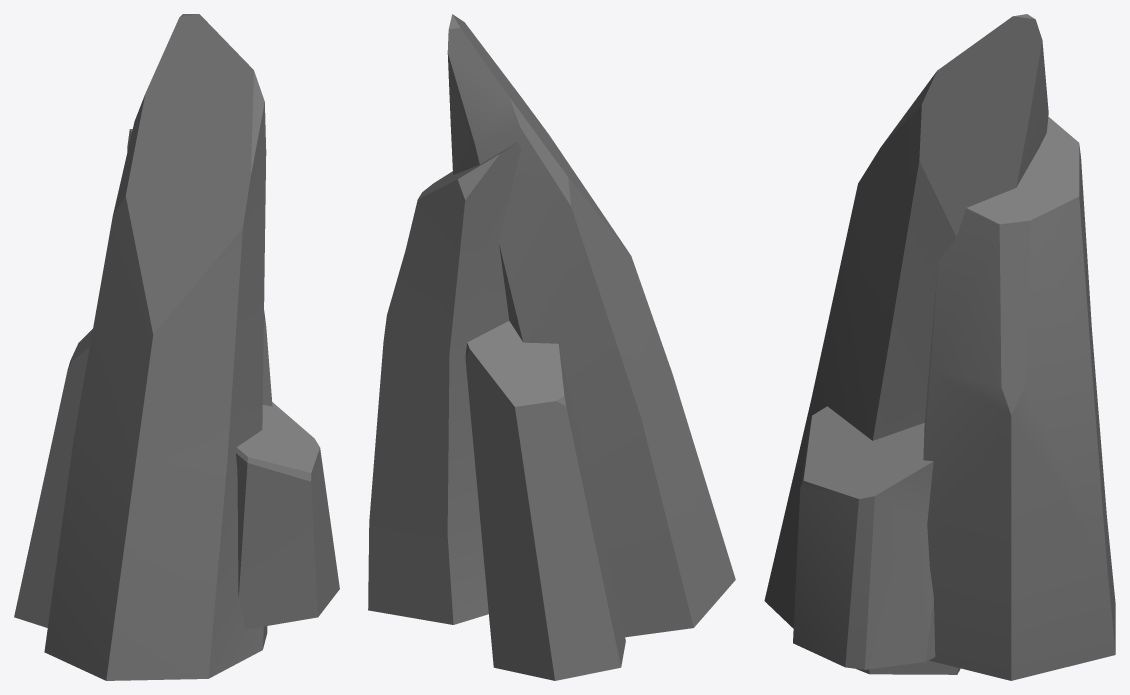
Rendered from rock_formation12.fbx.
3 renders of one model, left to right at view 1: azimuth 30°, elevation 25°; view 2: azimuth 150°, elevation 25°; view 3: azimuth 270°, elevation 25°, orthographic. The views are drawn at different scales.
Visible parts, largest first — view 1: rock; view 2: rock; view 3: rock.
Part boxes in pixels (box(x1,y1,x2,y2)): rock: box(14, 14, 339, 680); rock: box(368, 14, 735, 680); rock: box(764, 14, 1115, 680).
Bounding box in the file's own units: 2510 × 5198 × 2496.
